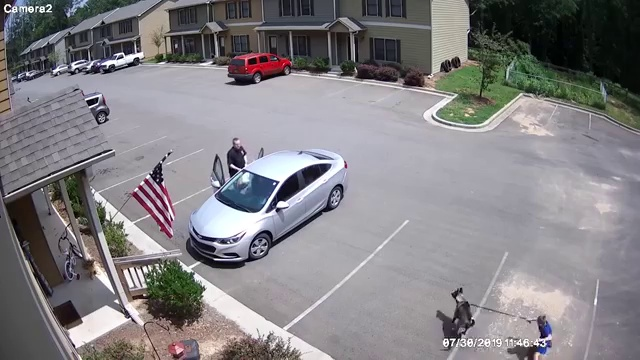face: (234, 141, 241, 149)
